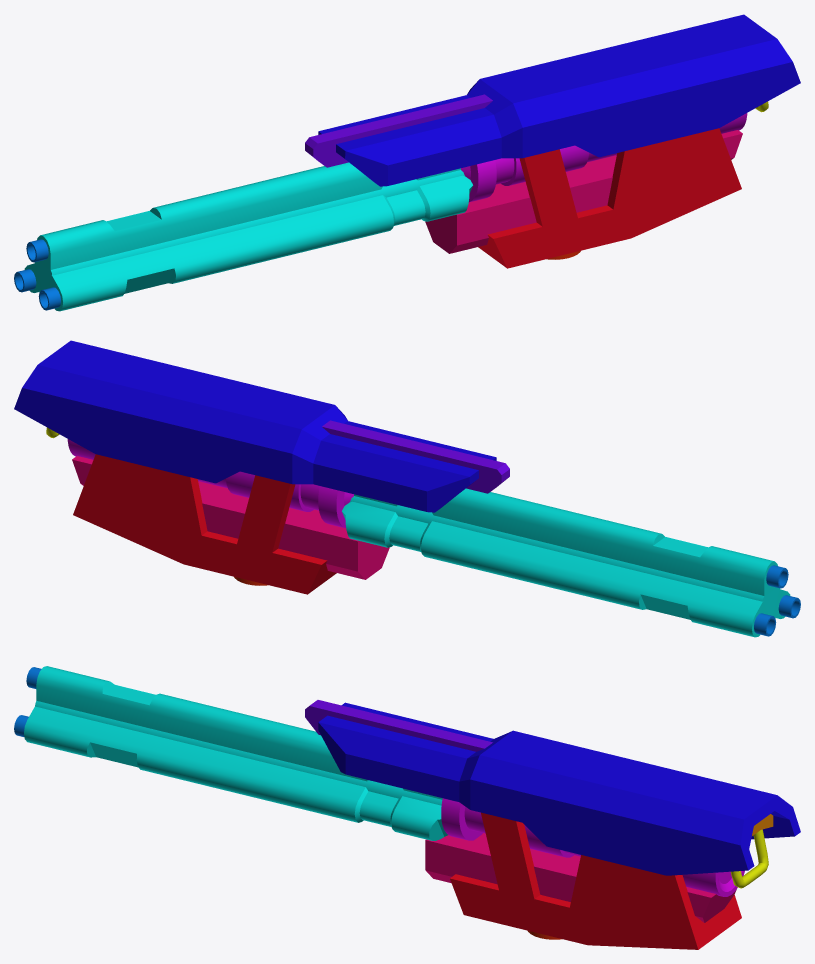
The model's file is repeater_size1.glb.
3 renders of one model, top to bottom at view 1: azimuth 30°, elevation 25°; view 2: azimuth 150°, elevation 25°; view 3: azimuth 330°, elevation 25°, orthographic.
Visible parts, largest first — view 1: Cube.005, Cube.002, Cylinder.003, Cylinder, Cube.001, Cylinder.004, Cube.006, Cylinder.001; view 2: Cube.005, Cube.002, Cylinder.002, Cylinder, Cube.001, Cylinder.004, Cube.006, Cylinder.001; view 3: Cube.005, Cube.002, Cylinder.003, Cylinder, Cube.001, Cylinder.004, Cylinder.001, Cube.006, Cylinder.011.
Boxes of the visible parts, x1,y1,x2,y2 form: Cube.005: [318, 14, 800, 186]; Cube.002: [478, 128, 741, 268]; Cylinder.003: [46, 175, 472, 311]; Cylinder: [37, 162, 460, 270]; Cube.001: [425, 130, 742, 253]; Cylinder.004: [35, 170, 464, 289]; Cube.006: [305, 94, 492, 167]; Cylinder.001: [461, 113, 747, 202]; Cube.005: [14, 340, 496, 512]; Cube.002: [73, 454, 336, 594]; Cylinder.002: [342, 501, 768, 637]; Cylinder: [354, 488, 777, 596]; Cube.001: [72, 456, 389, 579]; Cylinder.004: [350, 496, 779, 615]; Cube.006: [322, 420, 509, 493]; Cylinder.001: [67, 439, 353, 528]; Cube.005: [318, 702, 800, 875]; Cube.002: [450, 812, 741, 949]; Cylinder.003: [24, 706, 447, 840]; Cylinder: [36, 666, 442, 799]; Cube.001: [425, 833, 736, 922]; Cylinder.004: [35, 701, 442, 805]; Cylinder.001: [441, 798, 744, 896]; Cube.006: [305, 700, 492, 751]; Cylinder.011: [731, 829, 768, 888].
Size of the model in its own units: 4.59 by 1.01 by 0.5625.
